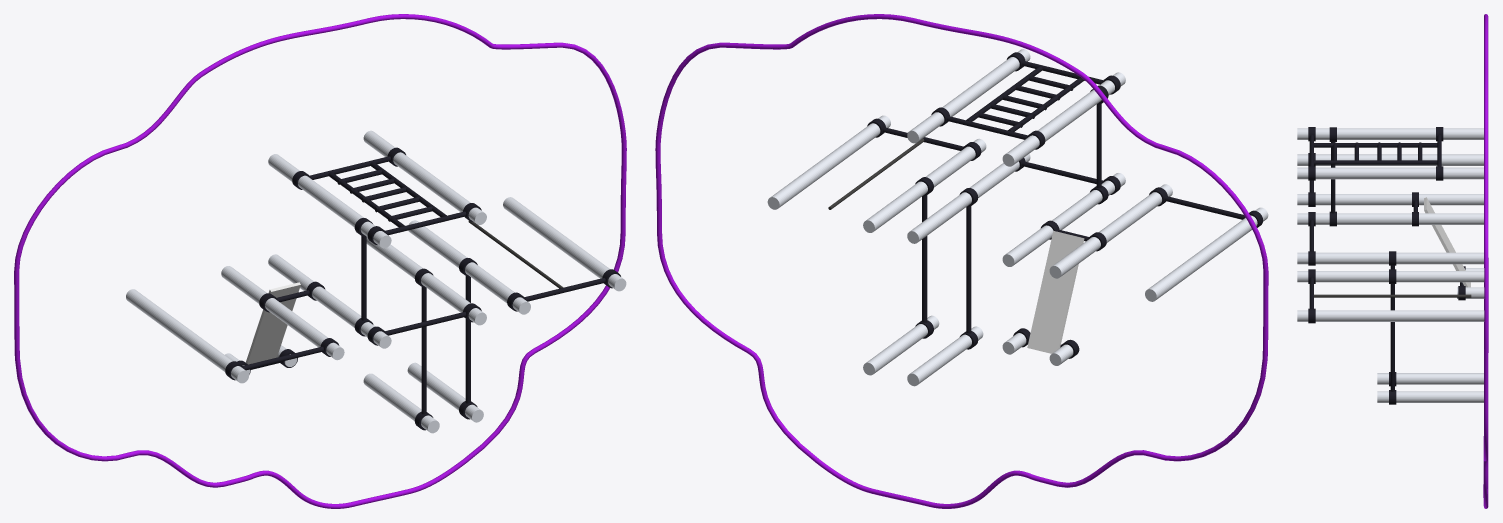
File: kpro-022.glb
3 renders of one model, left to right at view 1: azimuth 30°, elevation 25°; view 2: azimuth 150°, elevation 25°; view 3: azimuth 270°, elevation 25°, orthographic. The views are drawn at different scales.
Visible parts, largest first — view 1: _outline.012, circle.011, circle.014, circle.018, circle.012, circle.013, circle.017, circle.015, Cube.049, circle.016, circle.020, circle.019 (+1 smaller); view 2: _outline.012, Cube.049, circle.014, circle.011, circle.012, circle.013, circle.018, circle.015, circle.017, circle.016, circle.019, circle.020 (+1 smaller); view 3: _outline.012, circle.016, circle.018, circle.014, circle.013, circle.015, circle.017, circle.012, circle.011, circle.019, circle.020, Cylinder.078 (+5 smaller).
Boxes of the visible parts, x1,y1,x2,y2 form: _outline.012: (14, 14, 626, 508); circle.011: (126, 289, 248, 383); circle.014: (503, 197, 626, 291); circle.018: (363, 130, 486, 224); circle.012: (221, 266, 344, 360); circle.013: (408, 220, 530, 314); circle.017: (268, 154, 391, 248); circle.015: (268, 254, 391, 348); Cube.049: (245, 282, 300, 364); circle.016: (366, 237, 486, 325); circle.020: (363, 373, 439, 433); circle.019: (407, 362, 483, 422); _outline.012: (655, 14, 1268, 508); Cube.049: (1027, 231, 1084, 353); circle.014: (767, 115, 890, 209); circle.011: (1145, 207, 1268, 301); circle.012: (1049, 184, 1172, 278); circle.013: (863, 138, 986, 232); circle.018: (907, 49, 1030, 143); circle.015: (1002, 173, 1125, 266); circle.017: (1002, 72, 1125, 166); circle.016: (907, 153, 1030, 243); circle.019: (863, 315, 939, 375); circle.020: (907, 326, 983, 386); _outline.012: (1483, 14, 1488, 508); circle.016: (1297, 252, 1483, 264); circle.018: (1297, 167, 1483, 179); circle.014: (1297, 310, 1484, 321); circle.013: (1297, 271, 1484, 282); circle.015: (1297, 213, 1483, 224); circle.017: (1297, 128, 1483, 139); circle.012: (1297, 194, 1483, 205); circle.011: (1297, 154, 1483, 165); circle.019: (1377, 391, 1483, 402); circle.020: (1377, 373, 1483, 384); Cylinder.078: (1313, 294, 1471, 297).
Size of the model in its own units: 8.24 by 6.29 by 2.63.
